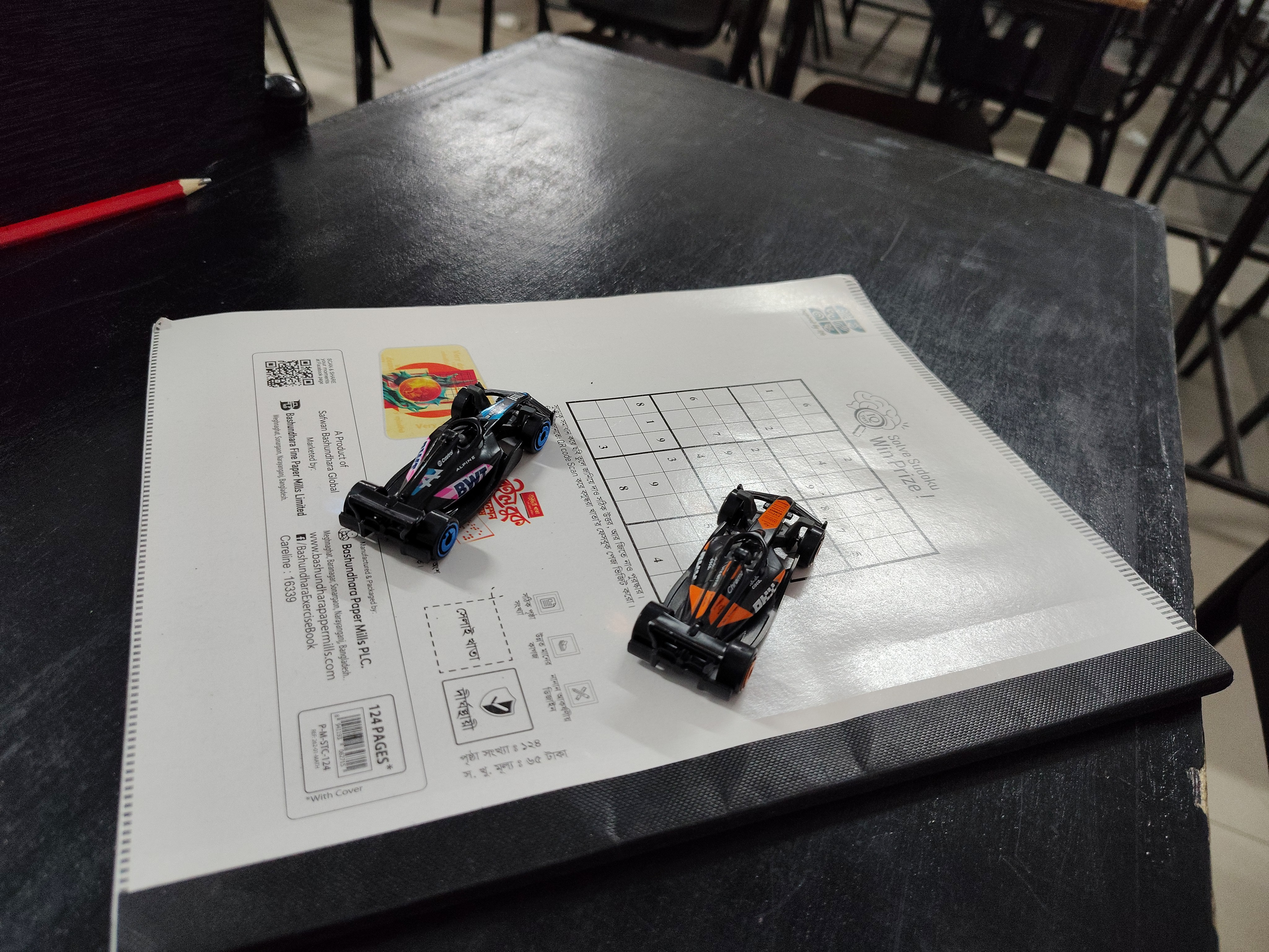Alpine A524: (290, 332, 572, 559)
McLaren MCL40: (613, 411, 854, 711)
